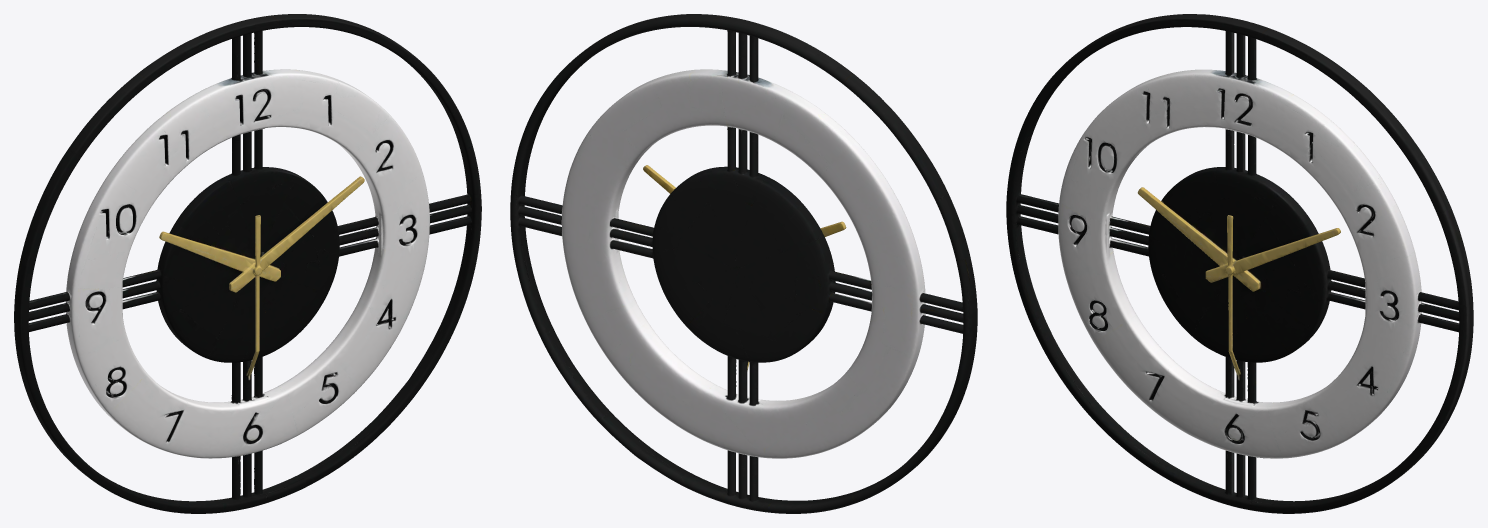
Rendered from auromin-designer-big-wall-clock-light.glb.
3 renders of one model, left to right at view 1: azimuth 30°, elevation 25°; view 2: azimuth 150°, elevation 25°; view 3: azimuth 330°, elevation 25°, orthographic.
Visible parts, largest first — view 1: mesh_node; view 2: mesh_node; view 3: mesh_node.
Boxes of the visible parts, left/top/right/bottom form: mesh_node: left=14, top=14, right=481, bottom=513; mesh_node: left=510, top=14, right=977, bottom=513; mesh_node: left=1006, top=14, right=1473, bottom=513.
Bounding box in the file's own units: 1.9 × 1.9 × 0.1162.
Materials: 1 (1 with a texture image).
